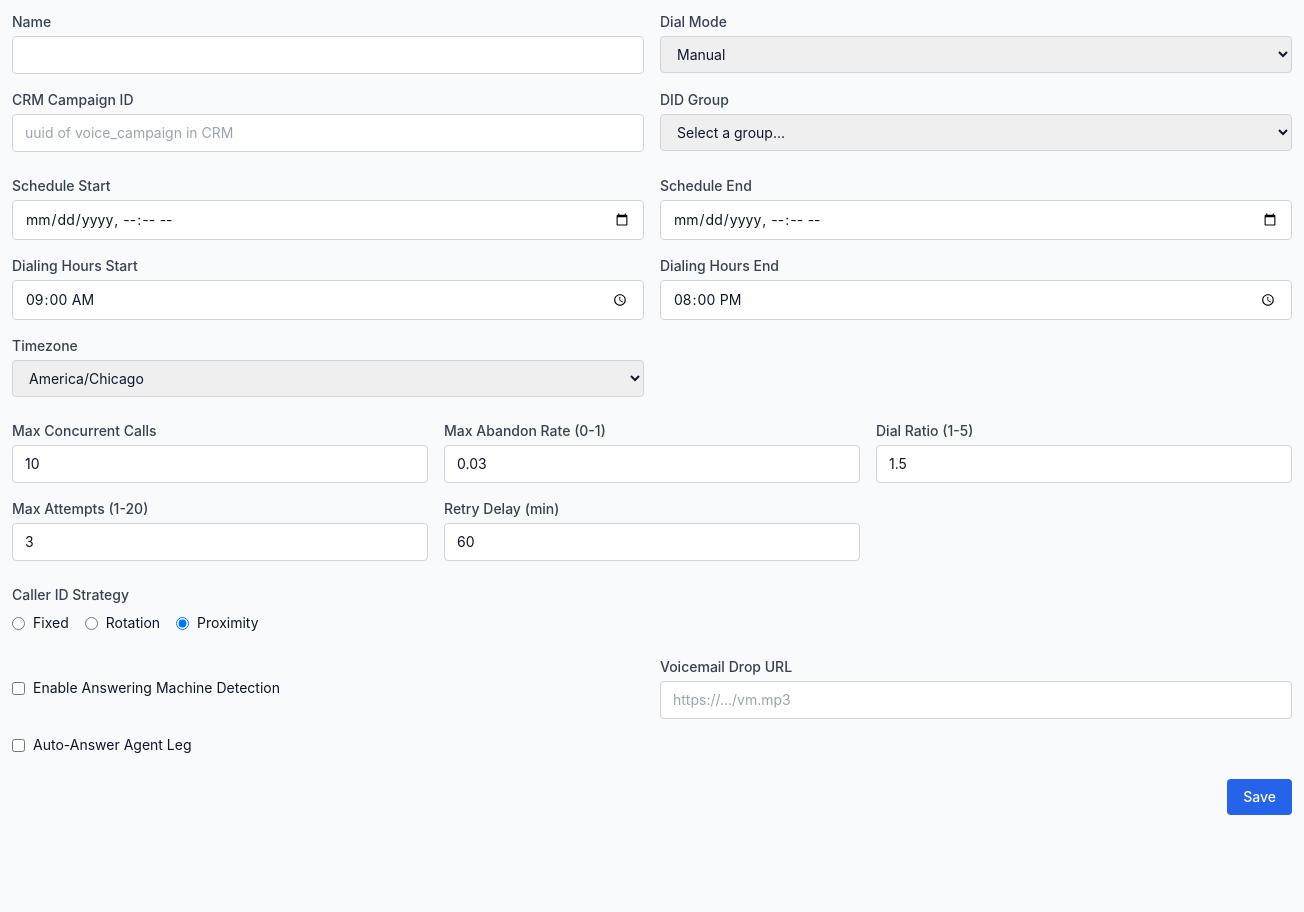
Test: CampaignForm render › reveals fixed caller id input when strategy=FIXED
This screenshot has width=1304, height=912.
Click the radio button labelled "Fixed": coordinates (18, 623) 12,616 -> 25,630
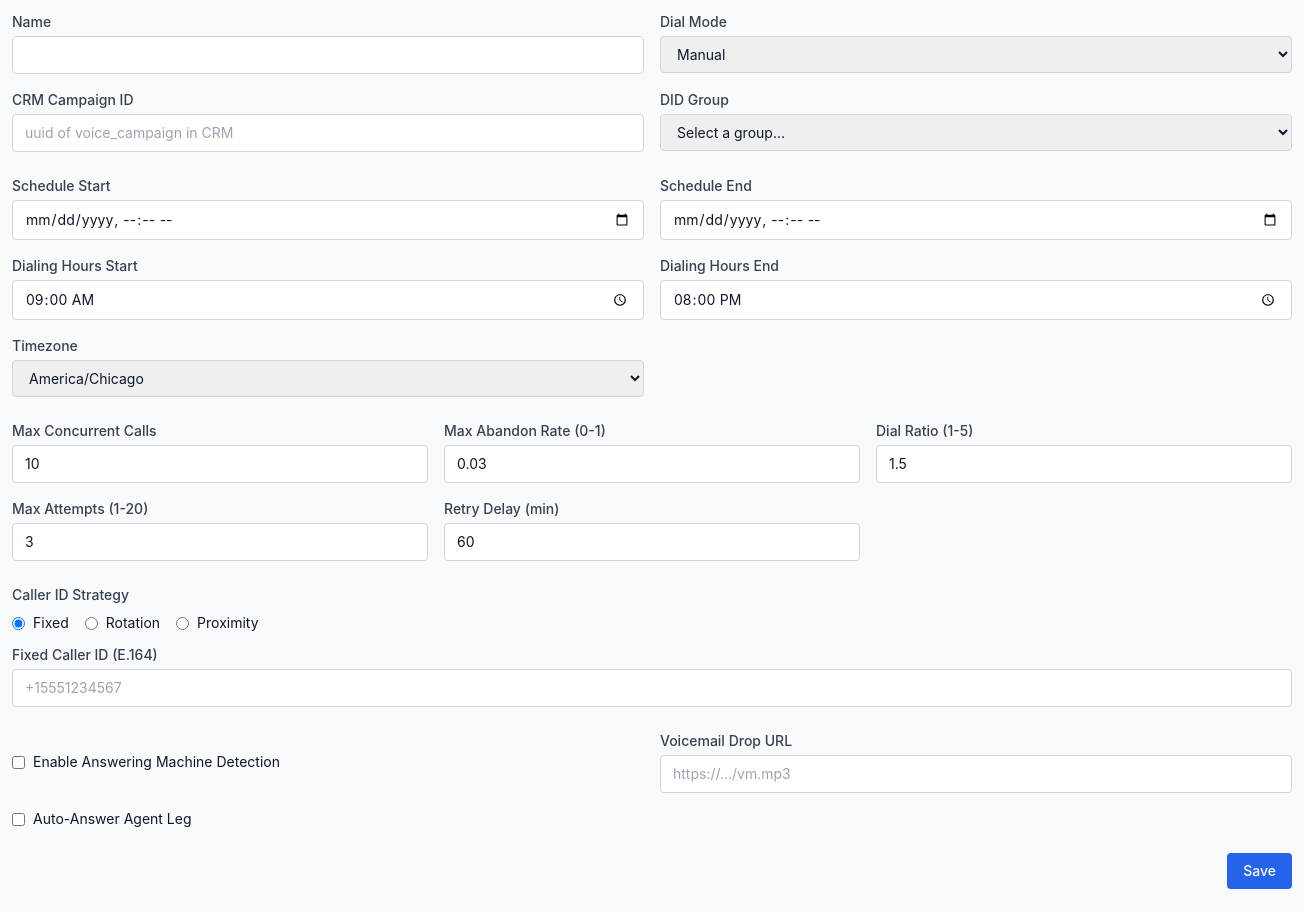
Expected: the field labelled "Fixed Caller ID (E.164)" is shown, 12,669 -> 1292,707
